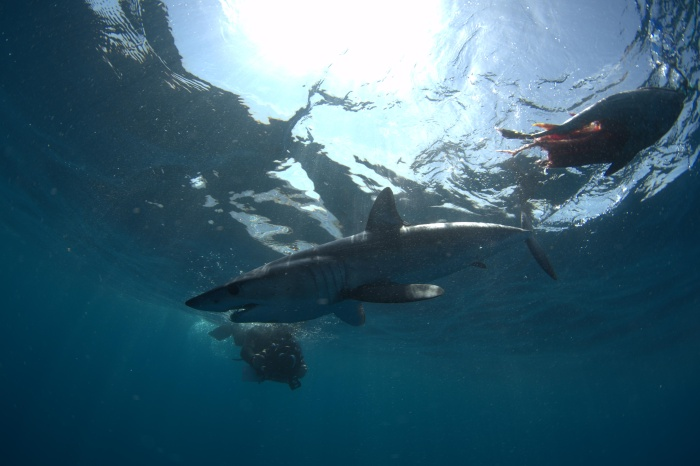Mako: (180, 179, 582, 340)
